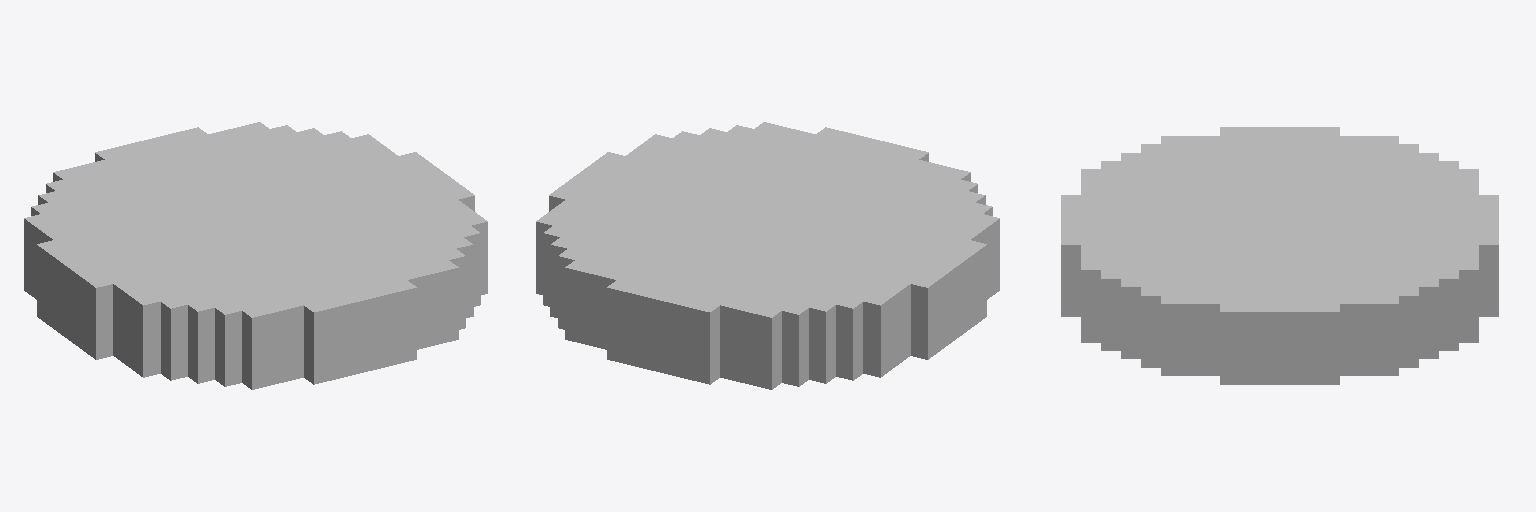
File: coin.obj
3 renders of one model, left to right at view 1: azimuth 30°, elevation 25°; view 2: azimuth 150°, elevation 25°; view 3: azimuth 270°, elevation 25°, orthographic.
Visible parts, largest first — view 1: object 1; view 2: object 1; view 3: object 1.
Part boxes in pixels (x1,y1,x2,y2): object 1: (24, 122, 487, 389); object 1: (536, 122, 999, 389); object 1: (1061, 127, 1498, 384).
Size of the model in its own units: 2.2 by 0.4 by 2.2.